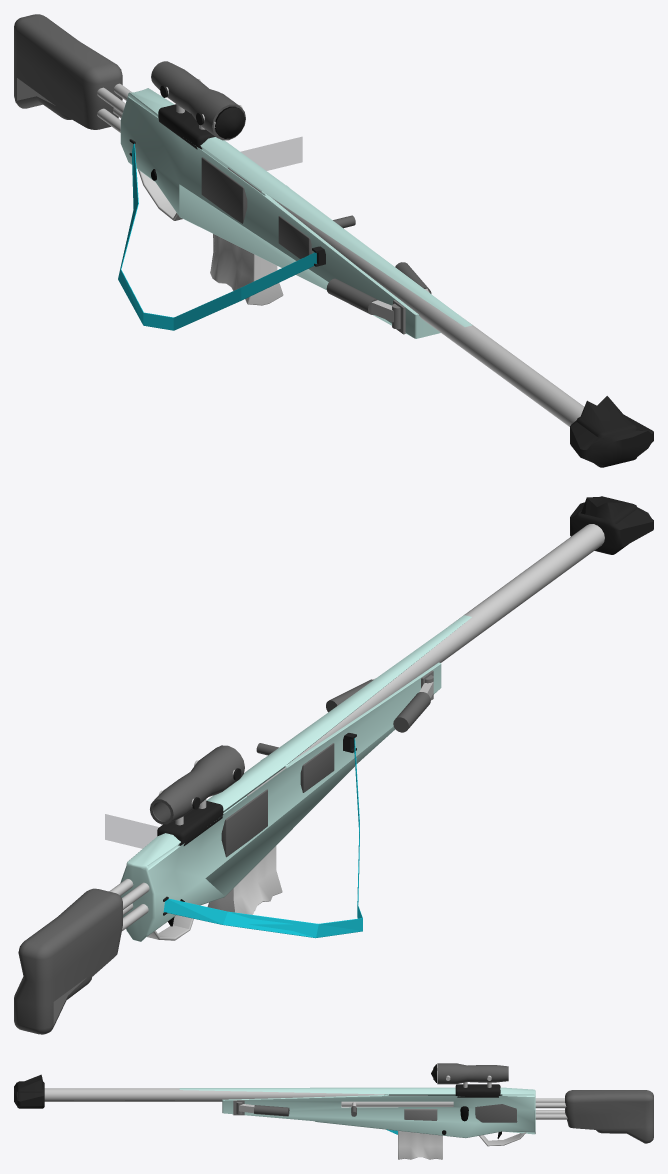
File: sniper_fbx.fbx
3 renders of one model, top to bottom at view 1: azimuth 30°, elevation 25°; view 2: azimuth 150°, elevation 25°; view 3: azimuth 270°, elevation 25°, orthographic. The views are drawn at different scales.
Parts seen in each view (by area): view 1: base, stock_base, barrel, muzzle, wire, Tube, mag_base, fixing_plate, holo_display, Cube_2, Cylinder_1, fixing_plate_1 (+2 smaller); view 2: base, stock_base, barrel, Tube, wire, muzzle, mag_base, fixing_plate, Cube_2, holo_display, Cylinder_1, fixing_plate_1; view 3: base, stock_base, barrel, Tube, mag_base, muzzle, fixing_plate_3, Cylinder_5, Cube_2, fixing_plate_2, Cylinder_1, trigger_guard (+2 smaller).
Boxes of the visible parts, left/top/right/bottom form: base: left=120, top=88, right=472, bottom=338; stock_base: left=14, top=14, right=122, bottom=129; barrel: left=227, top=167, right=584, bottom=426; muzzle: left=570, top=396, right=653, bottom=467; wire: left=118, top=143, right=316, bottom=330; Tube: left=151, top=61, right=245, bottom=140; mag_base: left=210, top=234, right=283, bottom=305; fixing_plate: left=201, top=157, right=247, bottom=223; holo_display: left=241, top=137, right=302, bottom=170; Cube_2: left=158, top=104, right=215, bottom=149; Cylinder_1: left=326, top=262, right=431, bottom=314; fixing_plate_1: left=278, top=216, right=311, bottom=259; base: left=120, top=615, right=471, bottom=941; stock_base: left=14, top=888, right=122, bottom=1034; barrel: left=247, top=524, right=604, bottom=796; Tube: left=150, top=745, right=244, bottom=824; wire: left=163, top=738, right=362, bottom=938; muzzle: left=570, top=496, right=653, bottom=554; mag_base: left=207, top=846, right=282, bottom=914; fixing_plate: left=221, top=789, right=267, bottom=857; Cube_2: left=157, top=801, right=223, bottom=845; holo_display: left=105, top=814, right=158, bottom=848; Cylinder_1: left=326, top=679, right=430, bottom=732; fixing_plate_1: left=300, top=743, right=334, bottom=792; base: left=179, top=1087, right=535, bottom=1138; stock_base: left=565, top=1090, right=653, bottom=1143; barrel: left=44, top=1088, right=427, bottom=1101; Tube: left=437, top=1063, right=508, bottom=1084; mag_base: left=398, top=1131, right=442, bottom=1159; muzzle: left=14, top=1074, right=44, bottom=1108; fixing_plate_3: left=475, top=1104, right=517, bottom=1122; Cylinder_5: left=341, top=1101, right=453, bottom=1106; Cube_2: left=455, top=1084, right=500, bottom=1097; fixing_plate_2: left=404, top=1109, right=437, bottom=1120; Cylinder_1: left=254, top=1105, right=289, bottom=1116; trigger_guard: left=479, top=1132, right=526, bottom=1146.
Size of the model in its own units: 575 by 465 by 2846.
